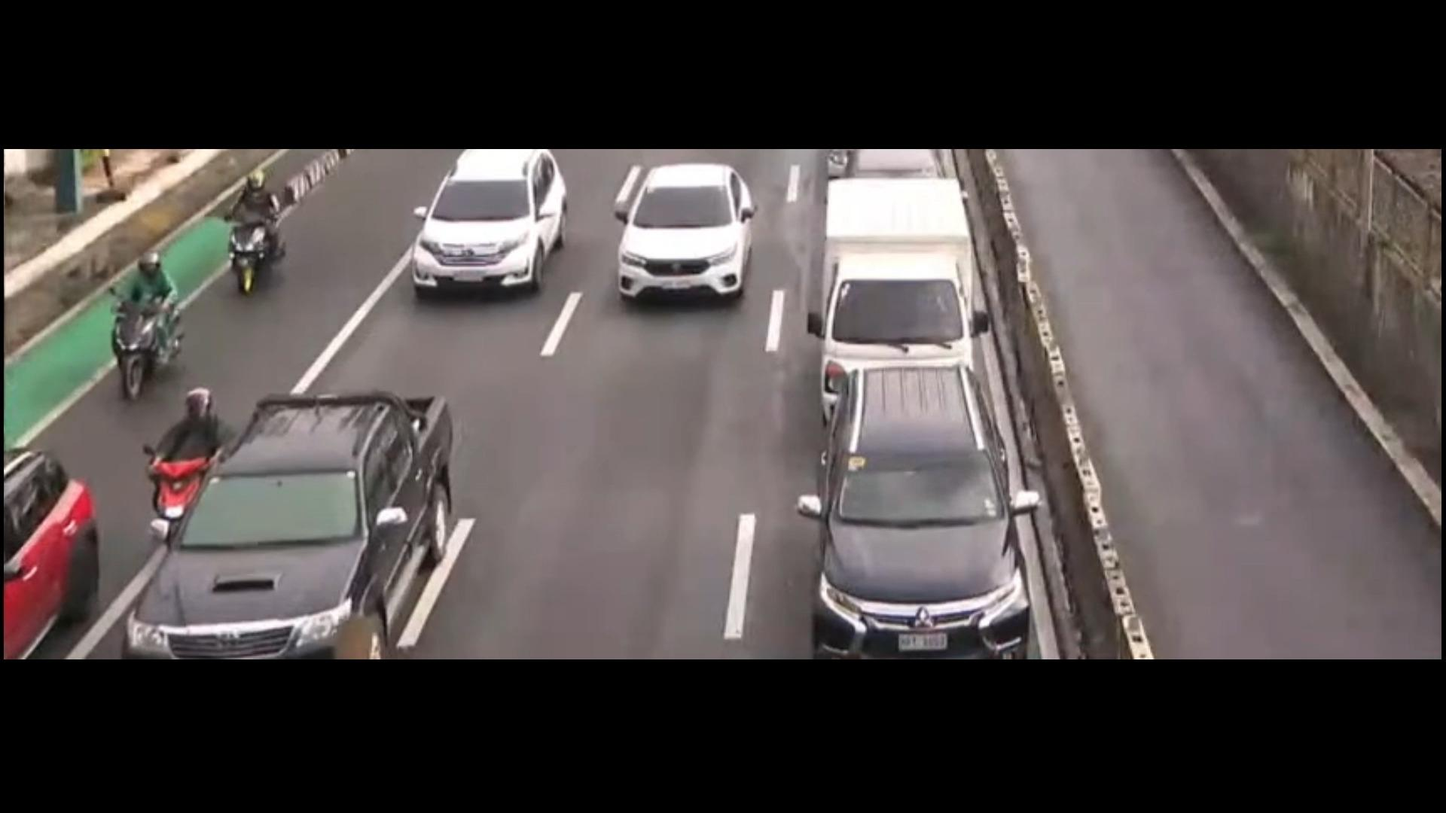Motorcycle: (147, 380, 222, 553), (115, 247, 183, 403), (218, 167, 288, 299)
Multicab: (811, 179, 983, 444)
Pickup: (118, 369, 485, 661)
SUV: (796, 367, 1043, 651), (397, 151, 559, 301)
Sedan: (608, 164, 755, 299)
